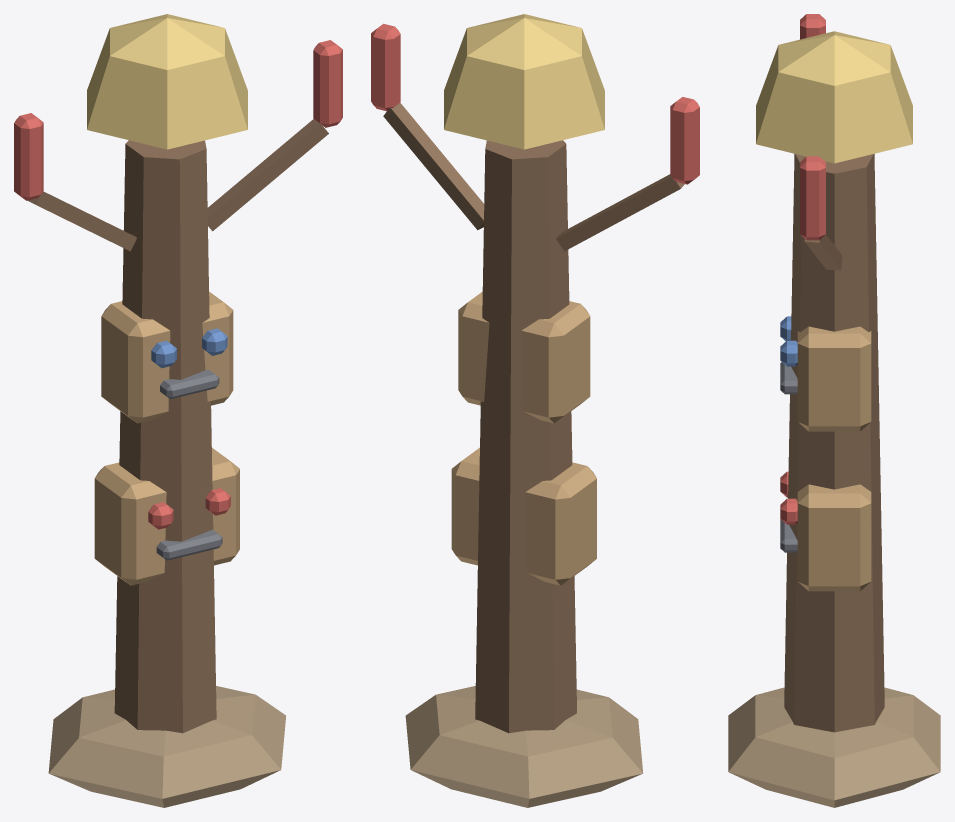
File: goblin-totem.glb
3 views of the same model, side by side, from view 1: azimuth 30°, elevation 25°; view 2: azimuth 150°, elevation 25°; view 3: azimuth 270°, elevation 25° (orthographic). The views are drawn at different scales.
Parts seen in each view (by area): view 1: goblin-totem; view 2: goblin-totem; view 3: goblin-totem.
Boxes of the visible parts, left/top/right/bottom form: goblin-totem: left=14, top=14, right=342, bottom=807; goblin-totem: left=371, top=14, right=699, bottom=807; goblin-totem: left=728, top=14, right=940, bottom=807.
Size of the model in its own units: 1.68 by 3.82 by 0.9835.
